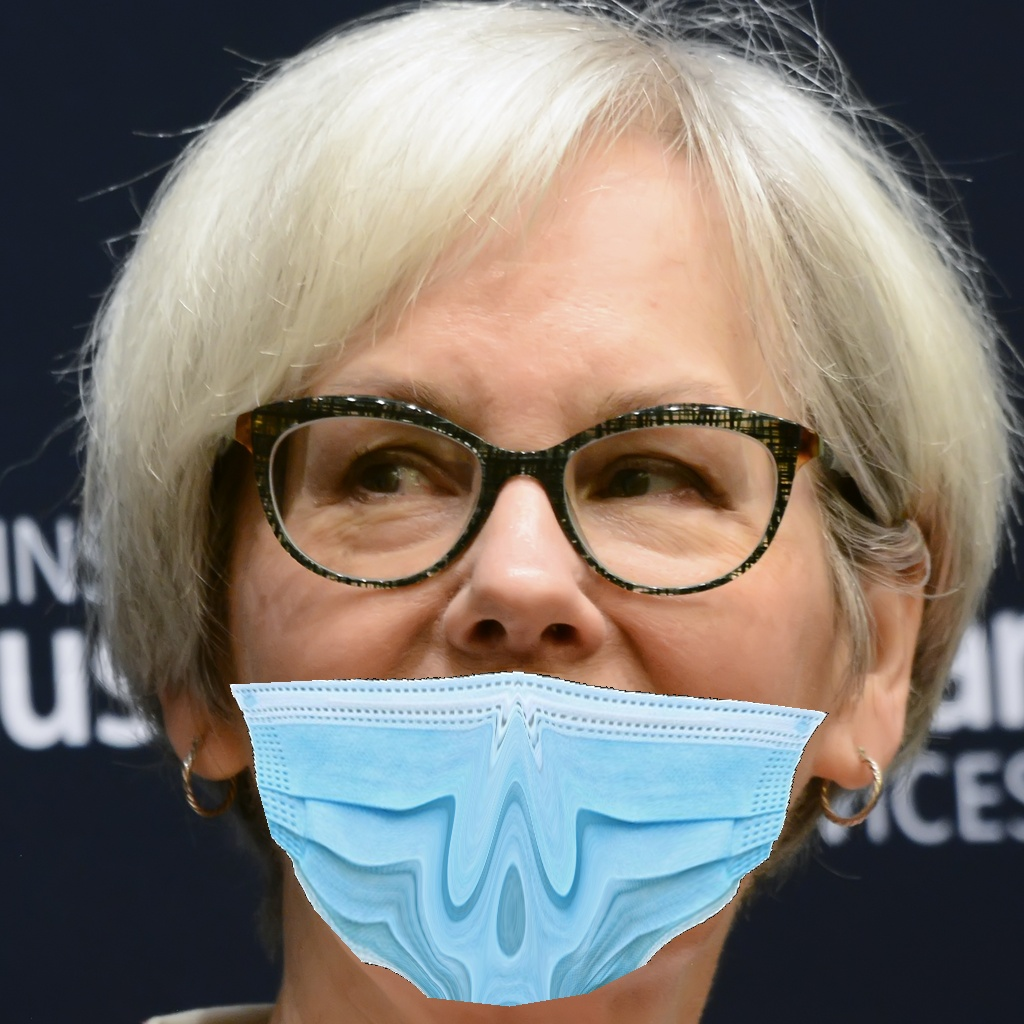mascarilla_mal_puesta: (174, 340, 892, 998)
